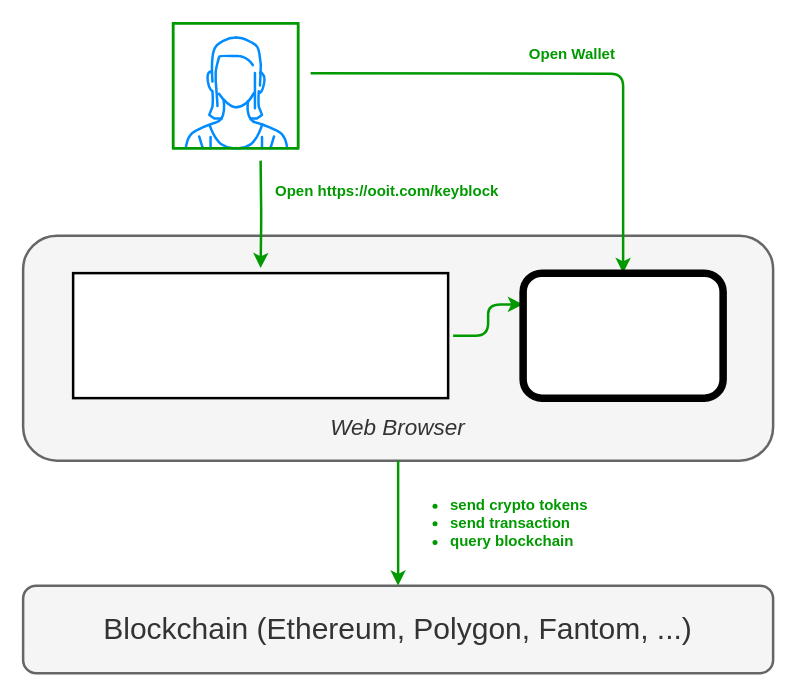
Image size: 795x695. Some labels were removed from this diagram. Each missing label, with the centre of its shape:
Wallet Addresse Secret Key Public Key: the point at 622,335
Web3 Application: the point at 260,335
